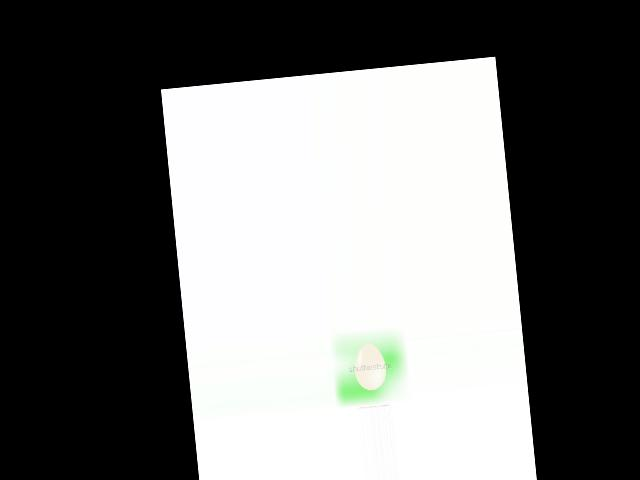egg: (352, 342, 388, 391)
